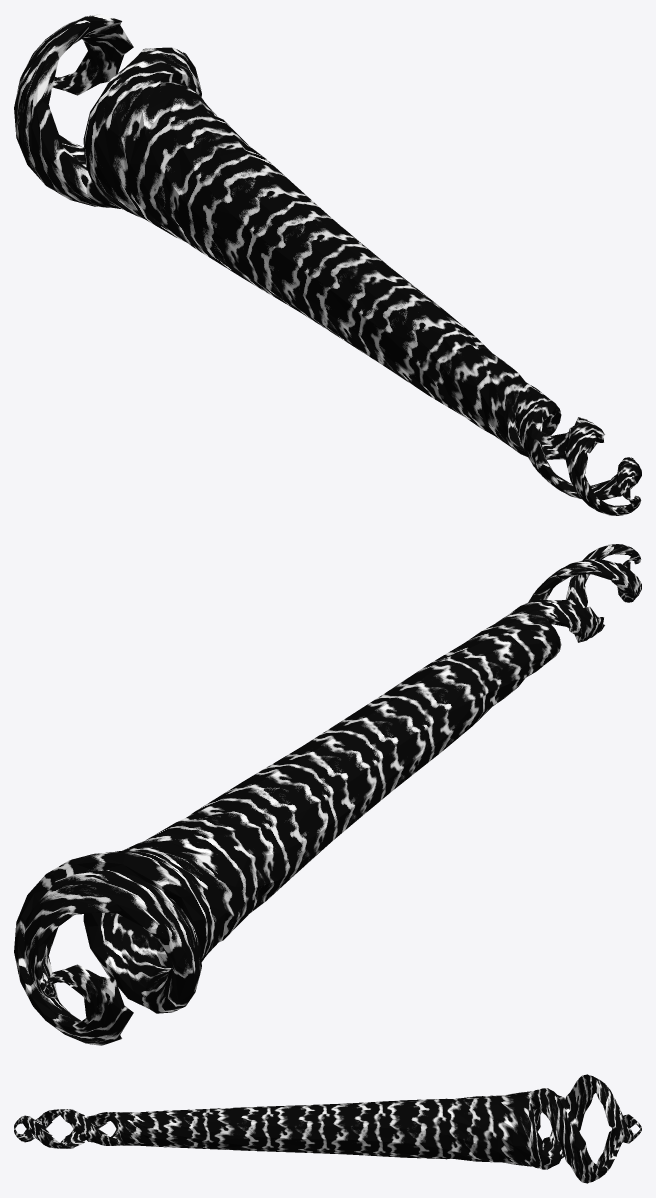
File: OnimasuPlanetWater.dae
3 renders of one model, top to bottom at view 1: azimuth 30°, elevation 25°; view 2: azimuth 150°, elevation 25°; view 3: azimuth 270°, elevation 25°, orthographic. The views are drawn at different scales.
Visible parts, largest first — view 1: m0; view 2: m0; view 3: m0.
Part boxes in pixels (box(x1,y1,x2,y2)): m0: box(14, 14, 641, 515); m0: box(14, 544, 641, 1045); m0: box(14, 1074, 641, 1183).
Size of the model in its own units: 1517 by 1443 by 8654.
1 material, 1 textured.
